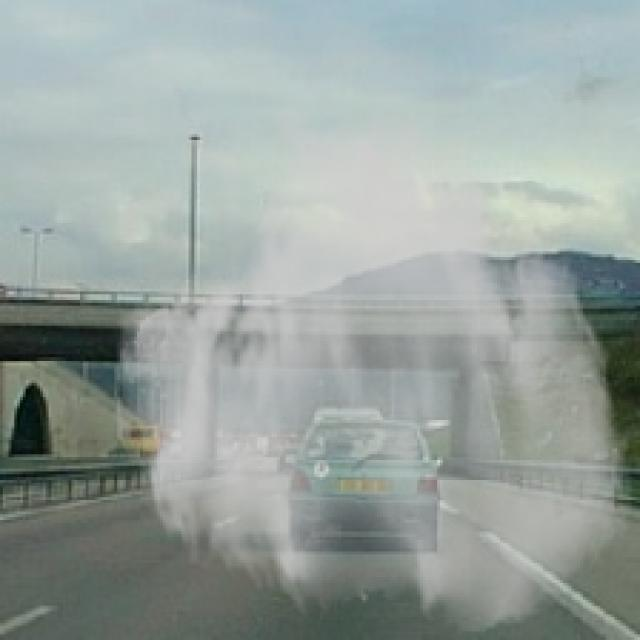Smoke: (108, 97, 638, 637)
